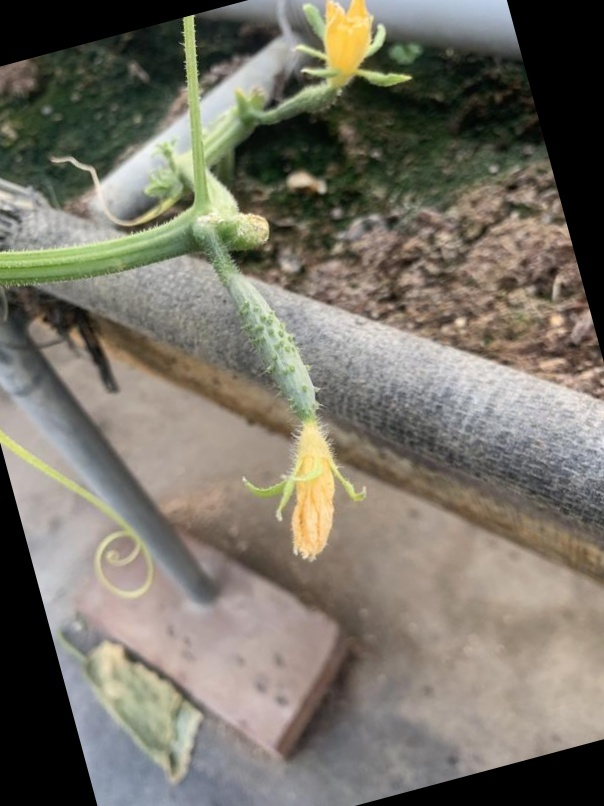bear: (204, 248, 376, 569), (265, 0, 403, 130)
